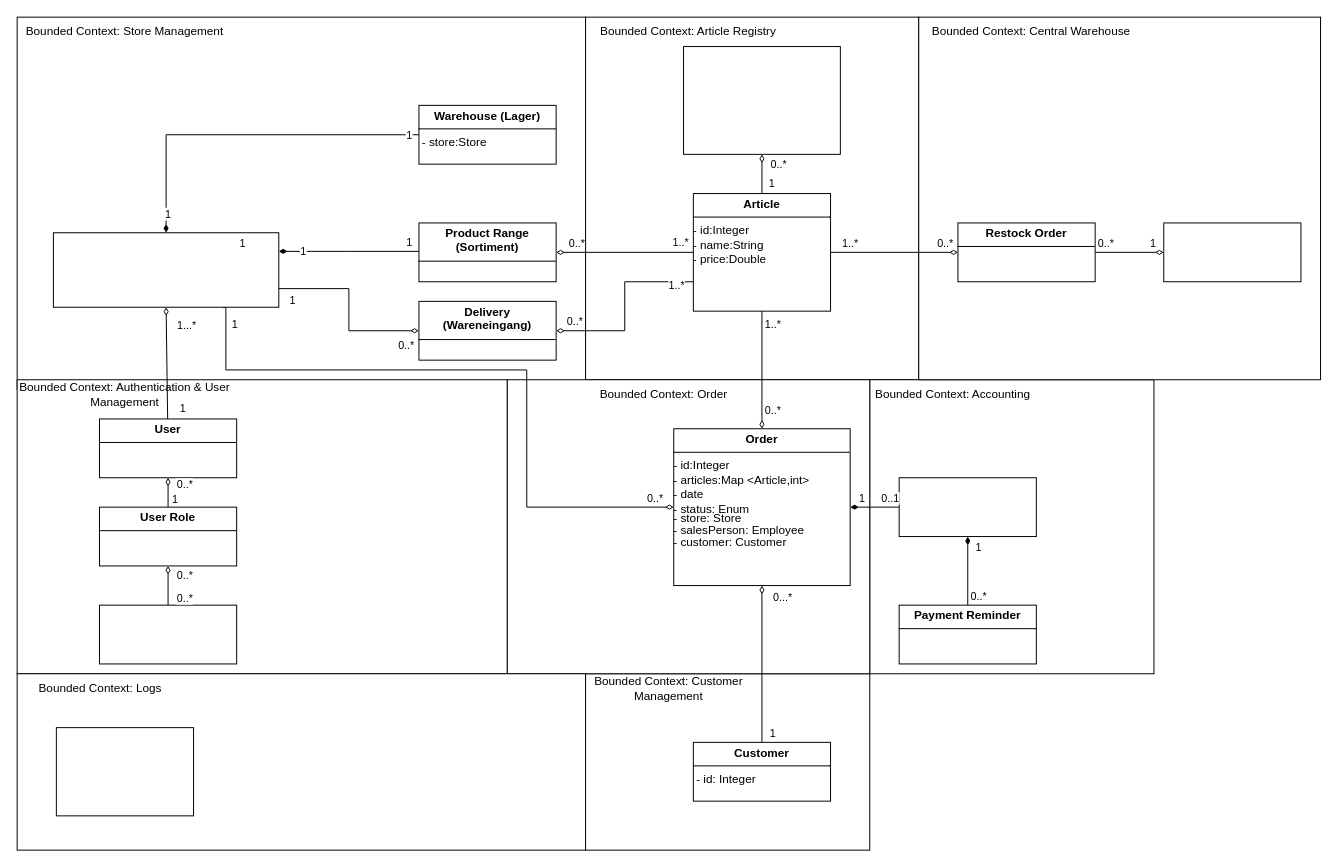
The diagram is 1338 pixels wide and 867 high, and some of its shapes have lost their labels. The shapes that lost their labels are listed below. From the top down, each one's centre as x and y in pixels, then its label:
(761,100): Article Registry + getArticle(id:int)
(165,269): Store - warehouse:Warehouse - productrange: ProductRange
(1232,252): Central Warehouse
(967,507): Invoice
(167,634): System Rights
(124,771): Log - src-service : String - store: - order: -
